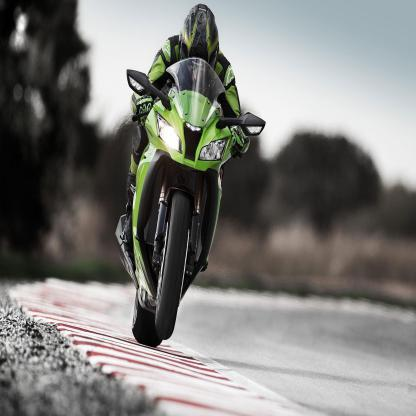Motorcycle: (119, 52, 262, 358)
